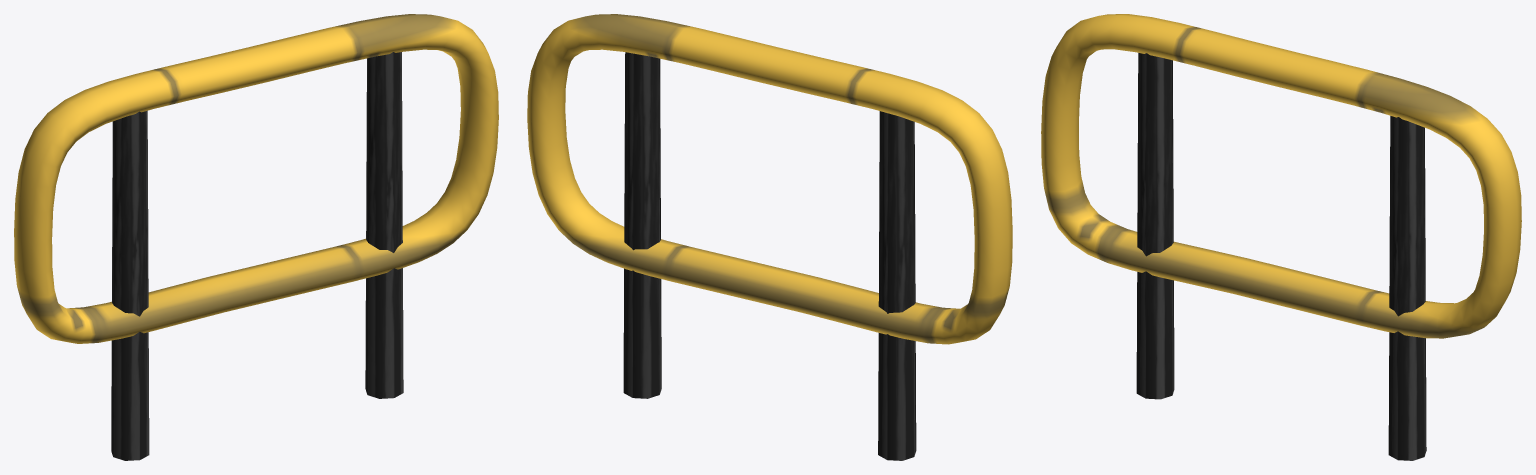
File: fence.fbx
3 views of the same model, side by side, from view 1: azimuth 30°, elevation 25°; view 2: azimuth 150°, elevation 25°; view 3: azimuth 330°, elevation 25° (orthographic).
Visible parts, largest first — view 1: BezierCurve, Cylinder.002, Cylinder.001; view 2: BezierCurve, Cylinder.002, Cylinder.001; view 3: BezierCurve, Cylinder.002, Cylinder.001.
Part boxes in pixels (x1,y1,x2,y2): BezierCurve: [14, 14, 498, 343]; Cylinder.002: [111, 110, 149, 460]; Cylinder.001: [365, 52, 403, 398]; BezierCurve: [527, 14, 1012, 344]; Cylinder.002: [878, 111, 916, 460]; Cylinder.001: [623, 52, 661, 398]; BezierCurve: [1041, 14, 1521, 338]; Cylinder.002: [1136, 53, 1174, 399]; Cylinder.001: [1388, 116, 1426, 460].
Bounding box in the file's own units: 242 × 182 × 21.77.
